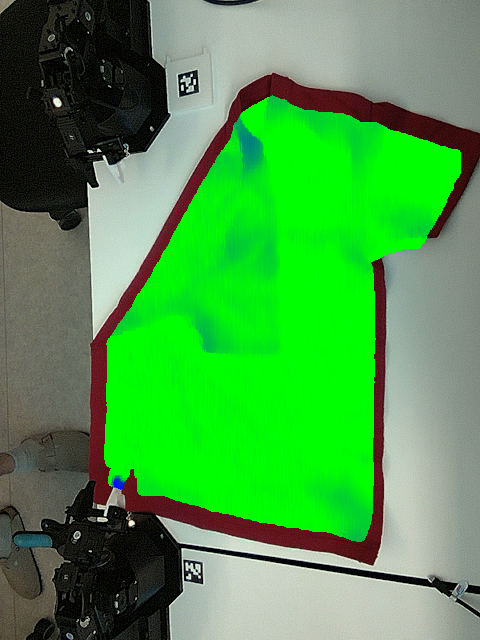V: (246, 314, 293, 358), (192, 328, 230, 365)
